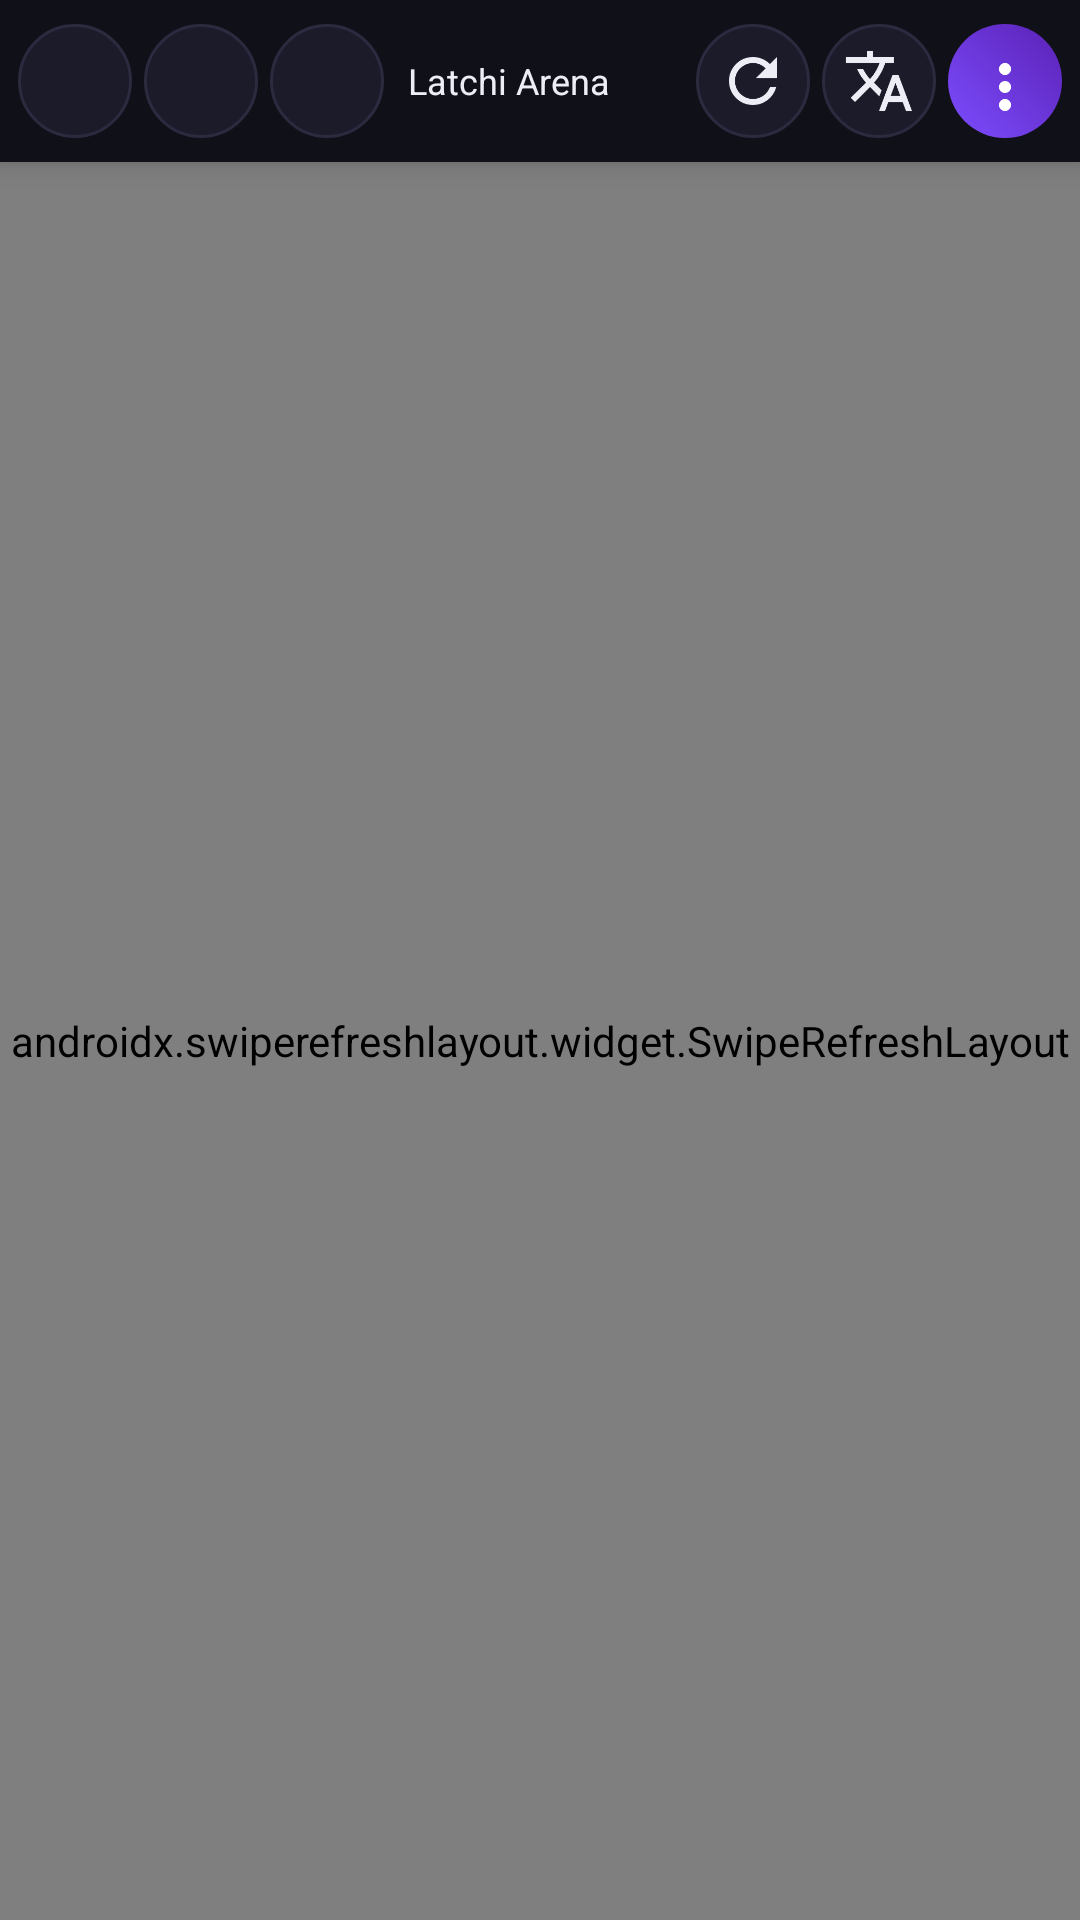

Icon bounding boxes for this 1080px x 1920px phone screenshot, format (x1, y1, x2, y2):
القائمة: (948, 24, 1062, 138)
اللغة: (822, 24, 936, 138)
تحديث: (696, 24, 810, 138)
